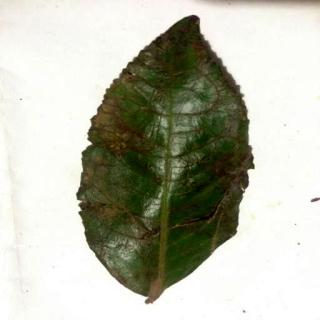Red Leaf Spot: (78, 15, 252, 305)
